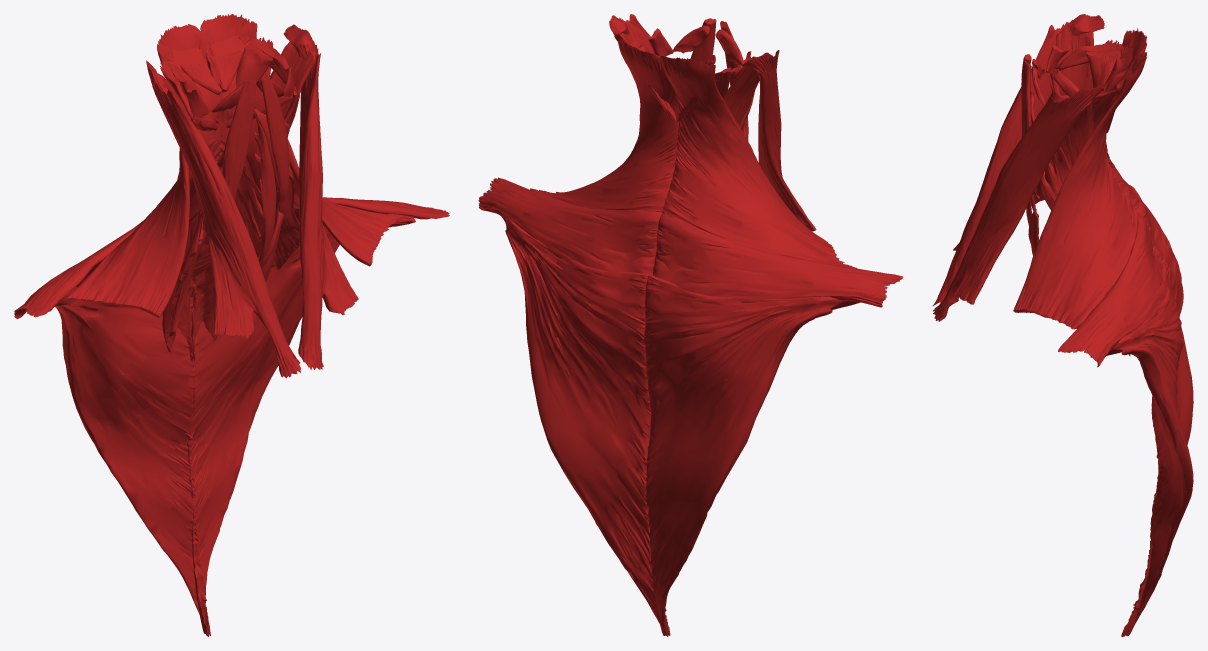
The model's file is muscles.glb.
3 renders of one model, left to right at view 1: azimuth 30°, elevation 25°; view 2: azimuth 150°, elevation 25°; view 3: azimuth 270°, elevation 25°, orthographic. The views are drawn at different scales.
Parts seen in each view (by area): view 1: grp1; view 2: grp1; view 3: grp1.
Part boxes in pixels (x1,y1,x2,y2): grp1: (14, 14, 449, 636); grp1: (478, 14, 903, 636); grp1: (932, 14, 1193, 636).
Bounding box in the file's own units: 0.3265 × 0.4522 × 0.1815.
